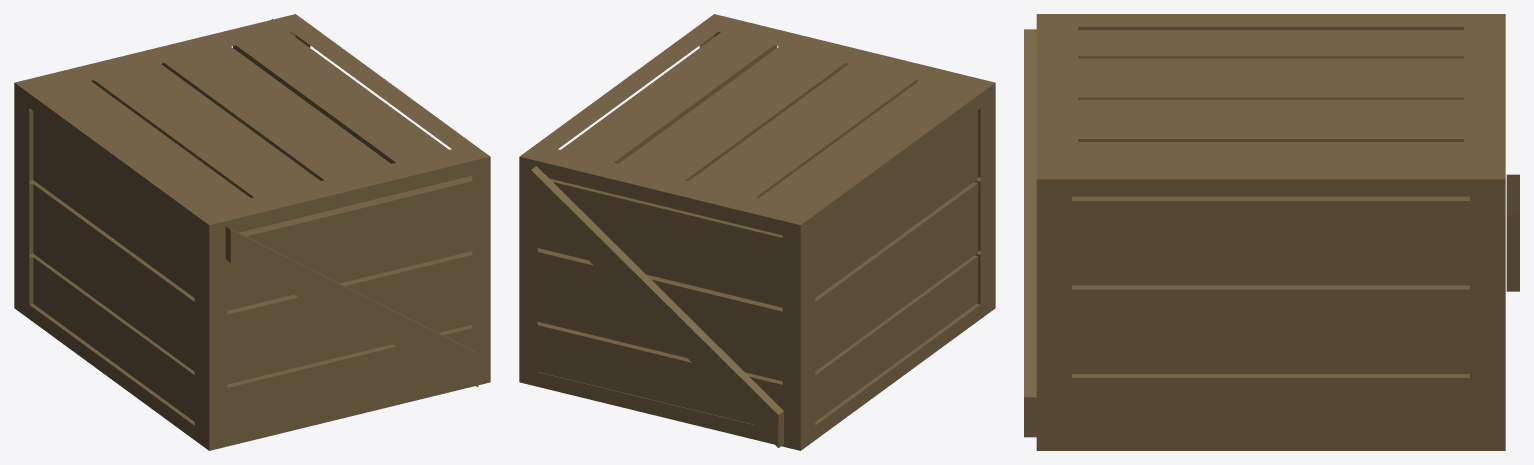
Rendered from caja.fbx.
3 views of the same model, side by side, from view 1: azimuth 30°, elevation 25°; view 2: azimuth 150°, elevation 25°; view 3: azimuth 270°, elevation 25° (orthographic). The views are drawn at different scales.
Parts seen in each view (by area): view 1: Cube; view 2: Cube; view 3: Cube.
Boxes of the visible parts, bbox=[...] form: Cube: bbox=[14, 14, 490, 450]; Cube: bbox=[519, 14, 995, 450]; Cube: bbox=[1024, 14, 1519, 450].
Bounding box in the file's own units: 50.86 × 39.01 × 64.5.
